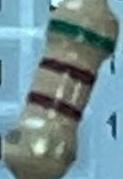Brown: (26, 90, 83, 123), (40, 55, 96, 88)
Green: (47, 16, 115, 54)
Side-Silver: (5, 126, 74, 166)
